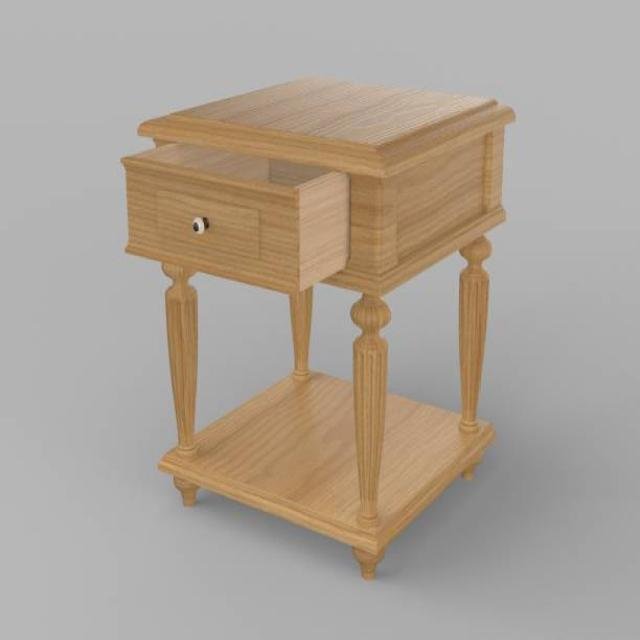table: (119, 73, 516, 579)
